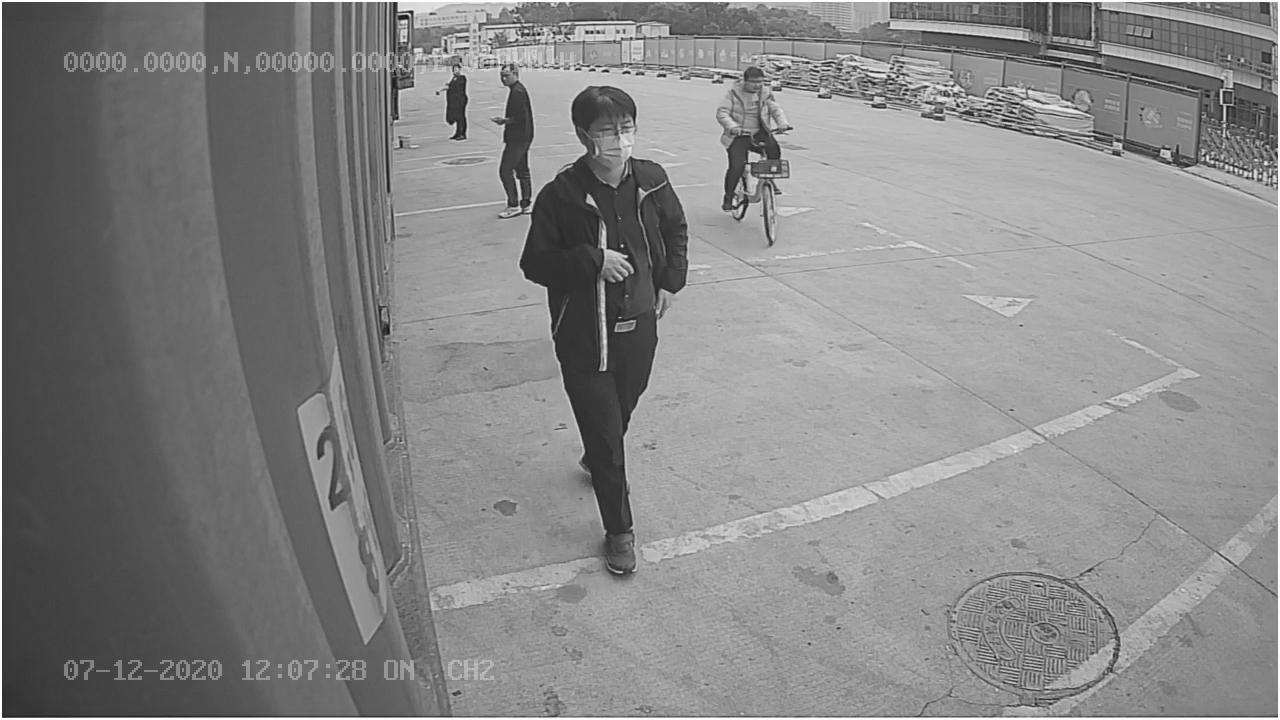person: (525, 81, 693, 573)
